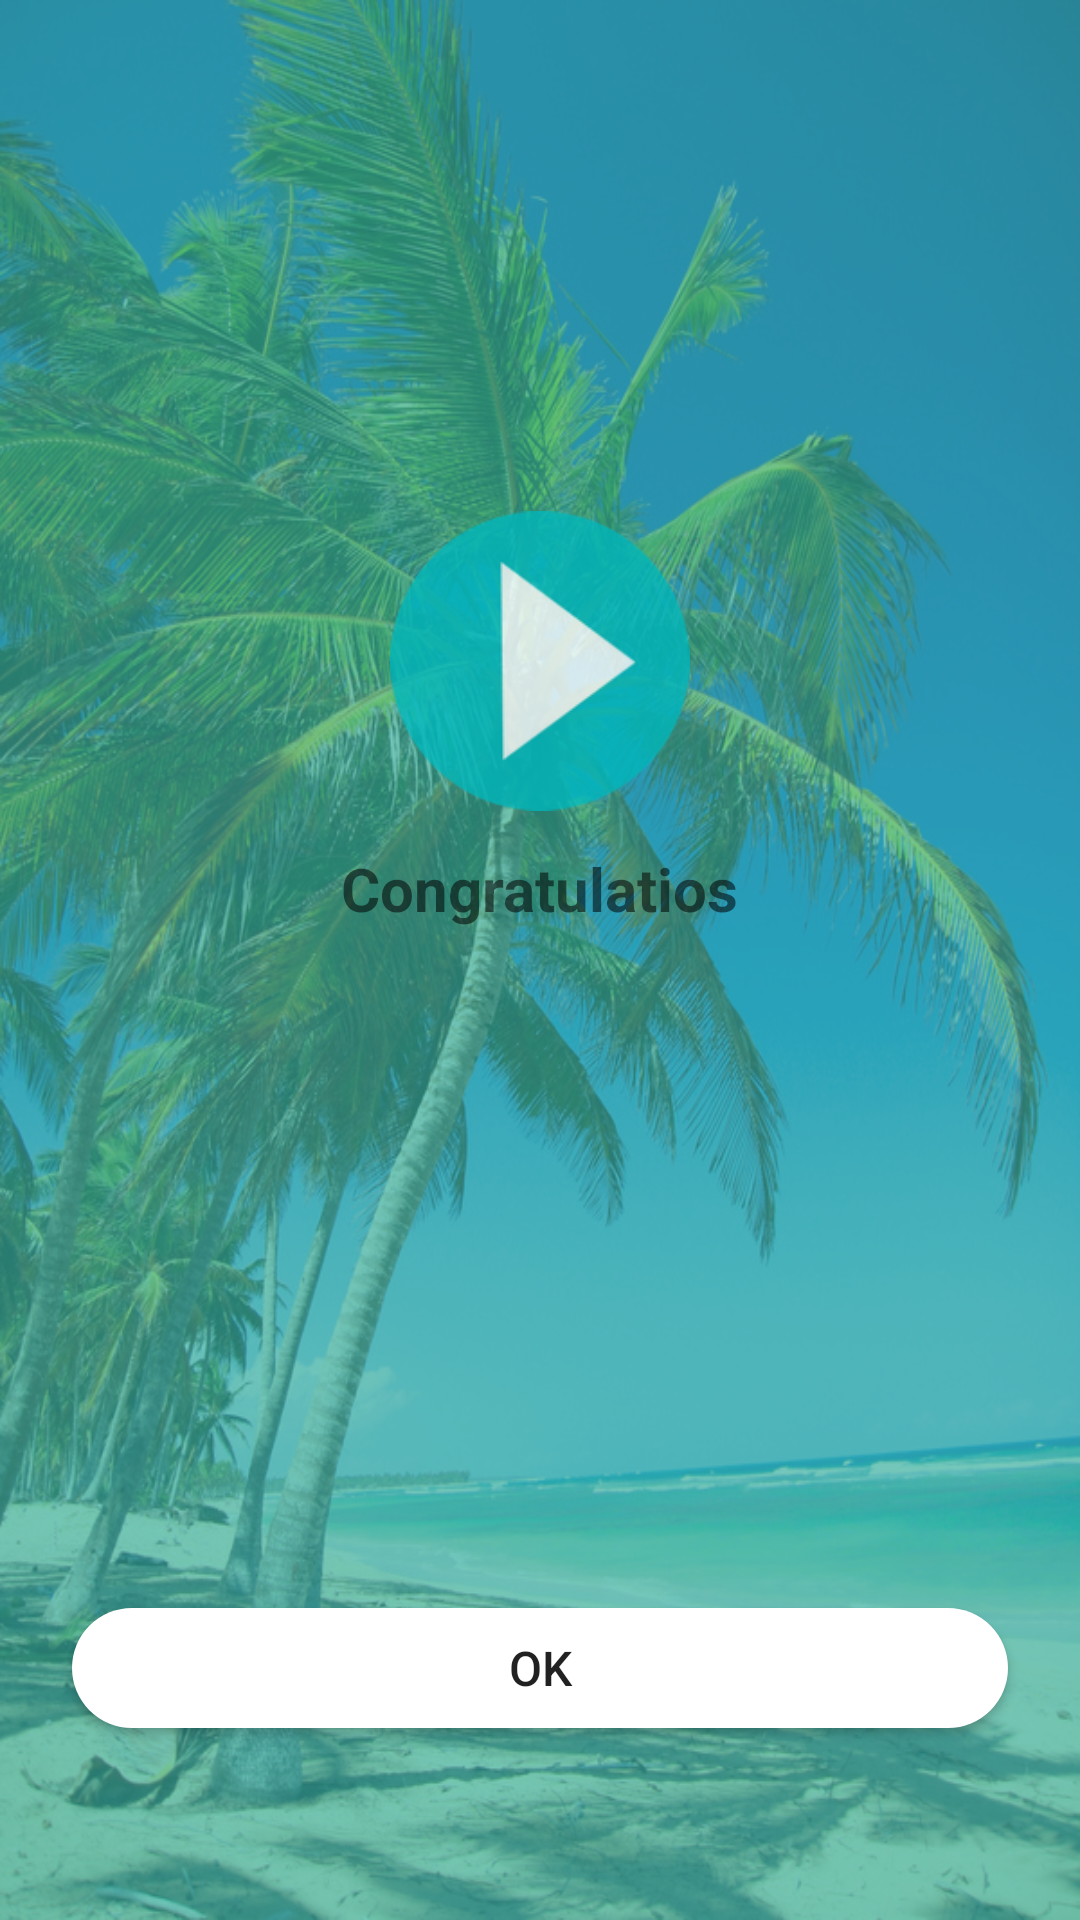

Icons on this 1080w x 1920h Android screen, each with the point to tap as (x=x, y=y):
play: (x=540, y=661)
